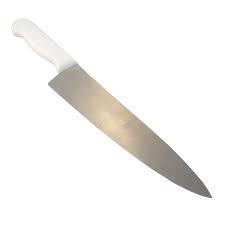Knife: (10, 16, 212, 198)
